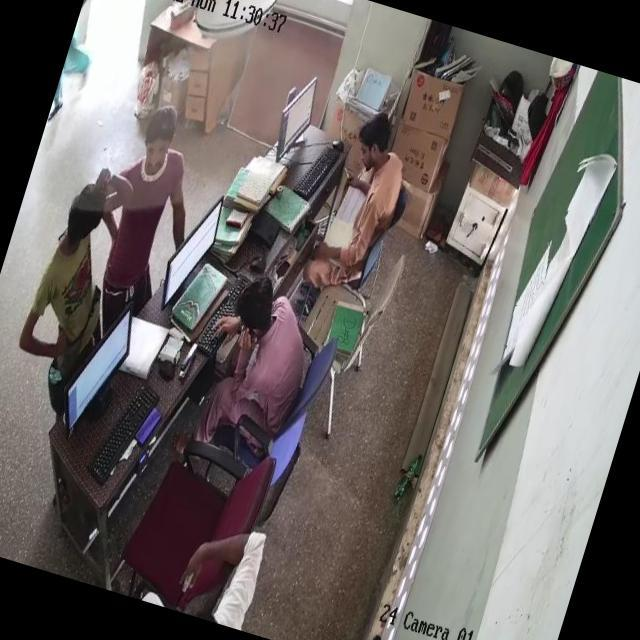person: (206, 280, 342, 446), (97, 106, 201, 298), (26, 181, 132, 362), (316, 99, 418, 287)
